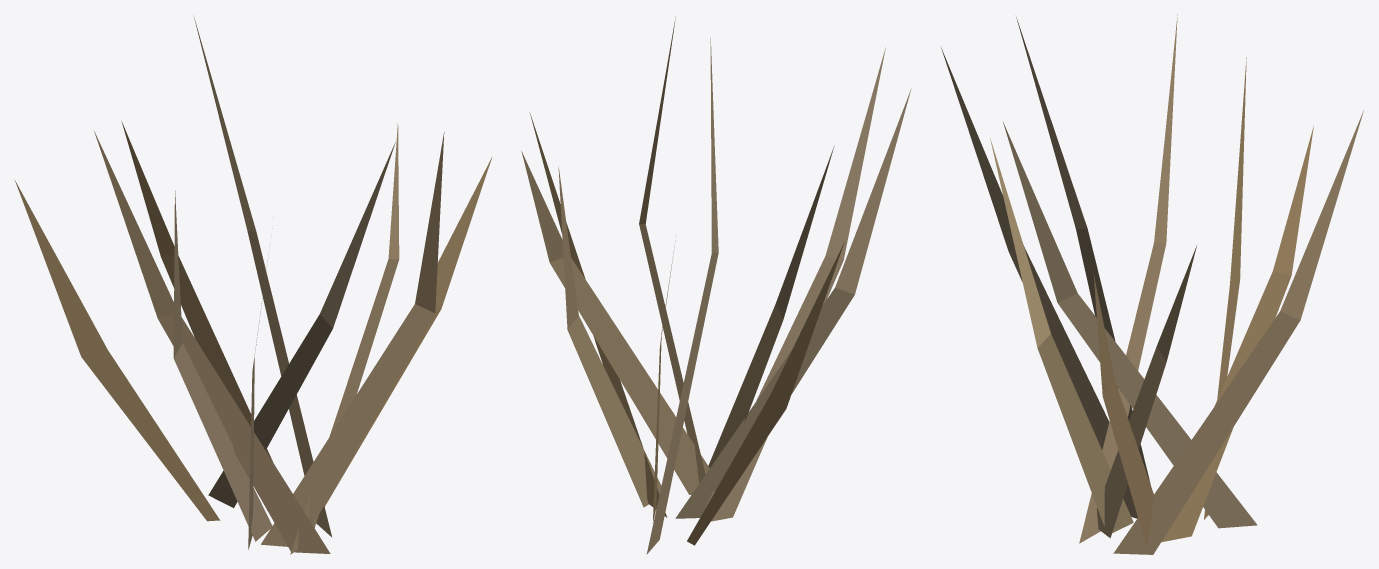
File: Dead_Bush_b_03.fbx
3 views of the same model, side by side, from view 1: azimuth 30°, elevation 25°; view 2: azimuth 150°, elevation 25°; view 3: azimuth 270°, elevation 25° (orthographic). The views are drawn at different scales.
Visible parts, largest first — view 1: Dead_Bush_b_03; view 2: Dead_Bush_b_03; view 3: Dead_Bush_b_03.
Part boxes in pixels (<box>): Dead_Bush_b_03: <box>14,17,492,554</box>; Dead_Bush_b_03: <box>521,16,911,554</box>; Dead_Bush_b_03: <box>940,14,1363,554</box>.
Size of the model in its own units: 0.5587 by 0.5828 by 0.5069.
